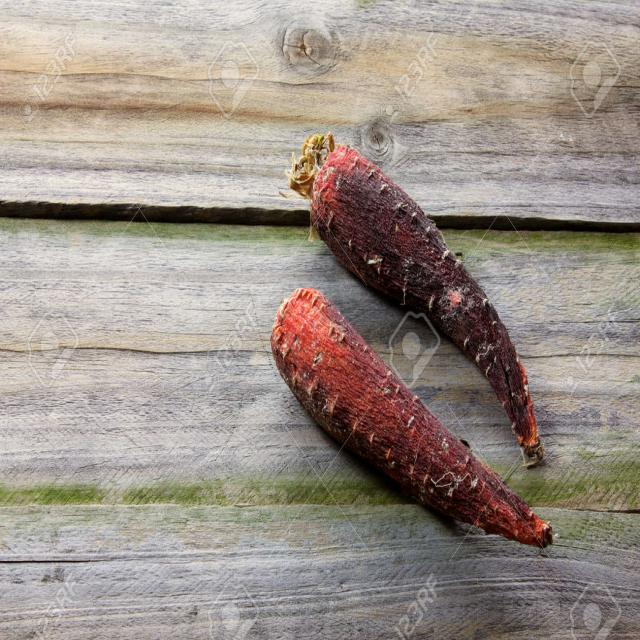Stale_Carrot: (259, 277, 567, 563), (312, 123, 544, 484)
